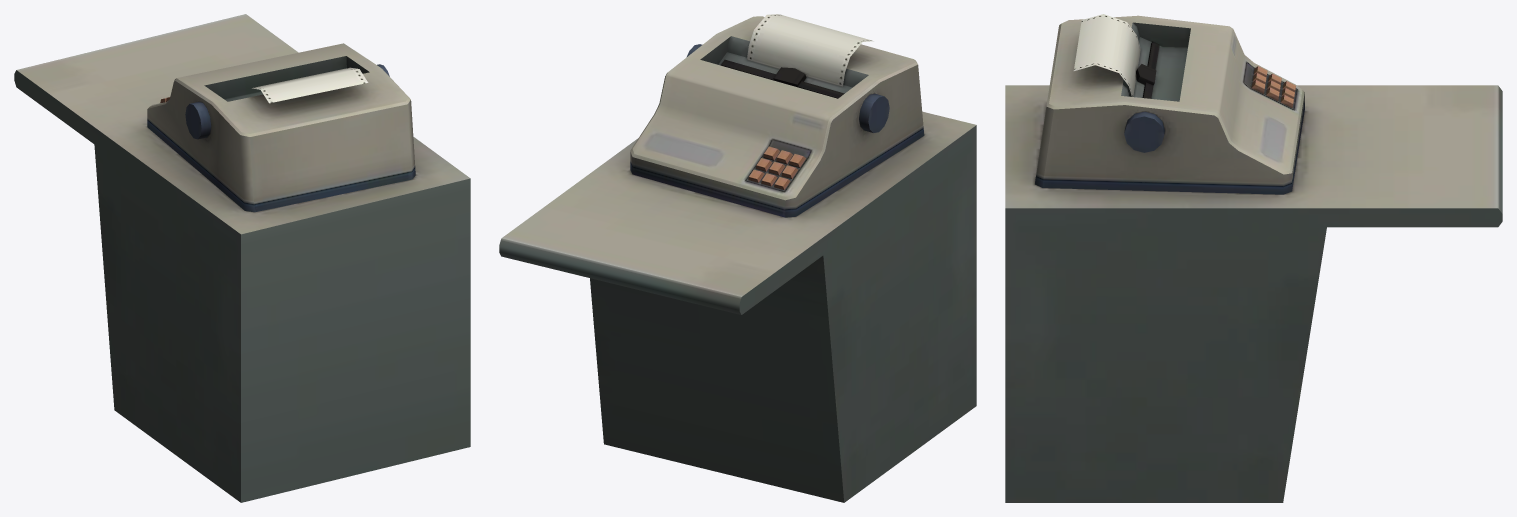
3 views of the same model, side by side, from view 1: azimuth 30°, elevation 25°; view 2: azimuth 150°, elevation 25°; view 3: azimuth 270°, elevation 25° (orthographic). The views are drawn at different scales.
Visible parts, largest first — view 1: body0_model0_lod0_mesh0; view 2: body0_model0_lod0_mesh0; view 3: body0_model0_lod0_mesh0.
Part boxes in pixels (x1,y1,x2,y2): body0_model0_lod0_mesh0: (14, 14, 470, 502); body0_model0_lod0_mesh0: (499, 14, 976, 502); body0_model0_lod0_mesh0: (1005, 14, 1502, 502).
Bounding box in the file's own units: 35.76 × 54.3 × 61.16.
1 material, 1 textured.
